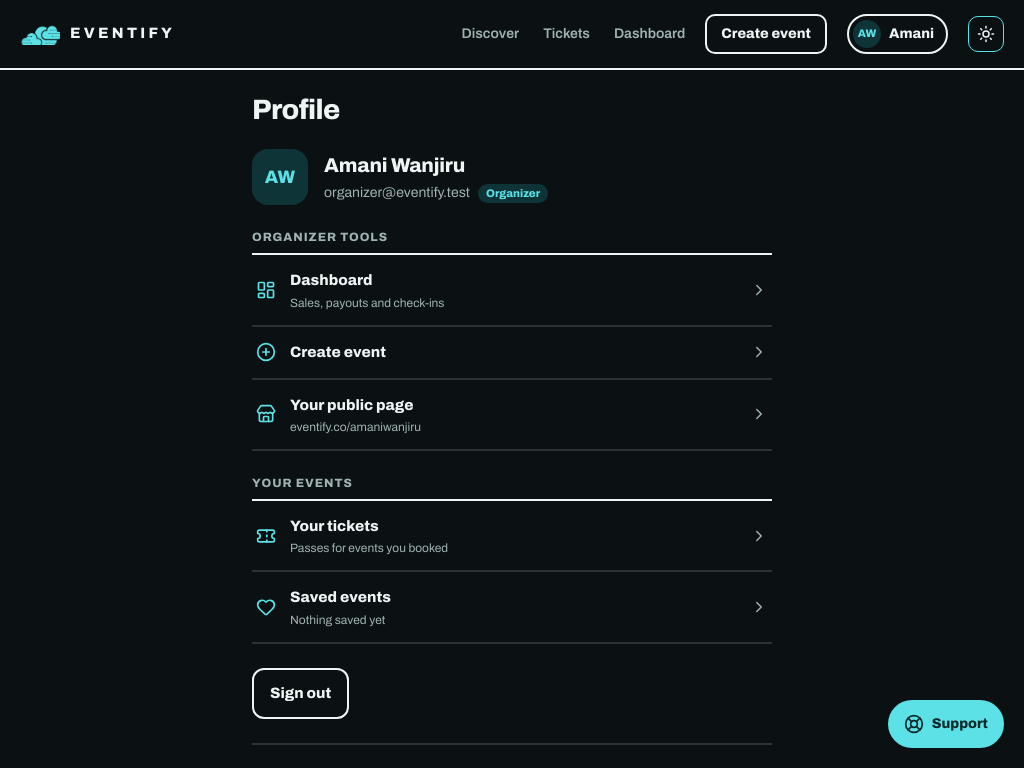
Sign in › signs out from the profile
expect the text "Amani Wanjiru" is shown: met, box [324,154,465,176]
Click the button "Sign out". click: (301, 693)
box: [252,668,349,719]
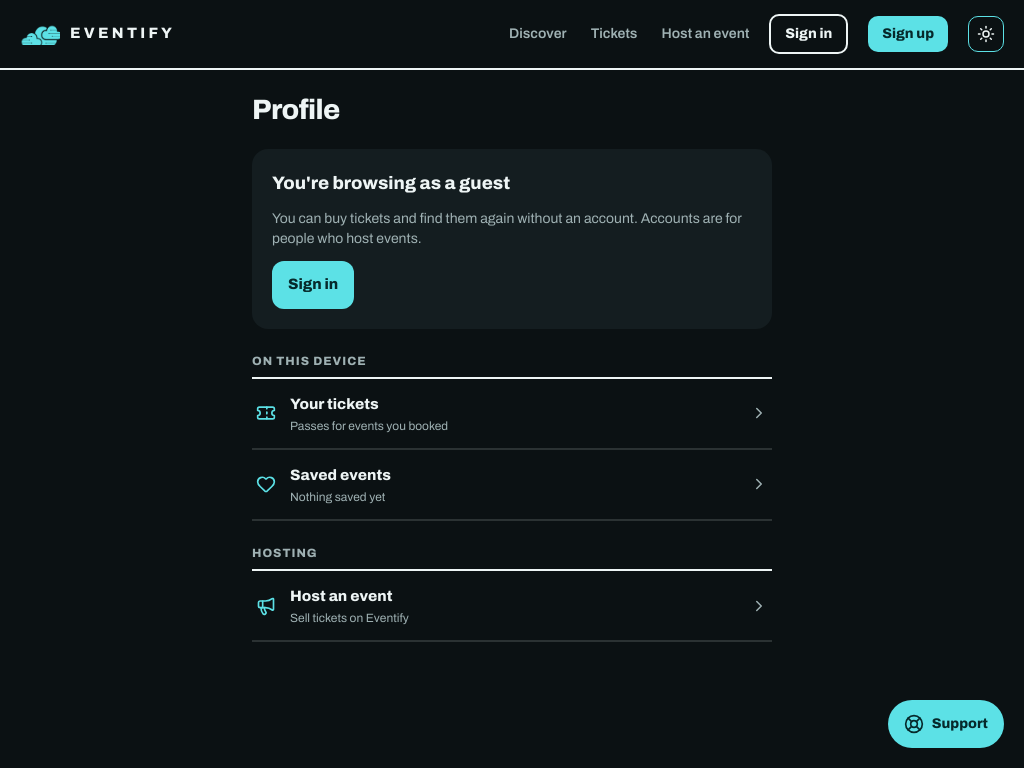
expect the text "You're browsing as a guest" is shown: met, box [272,169,510,197]
